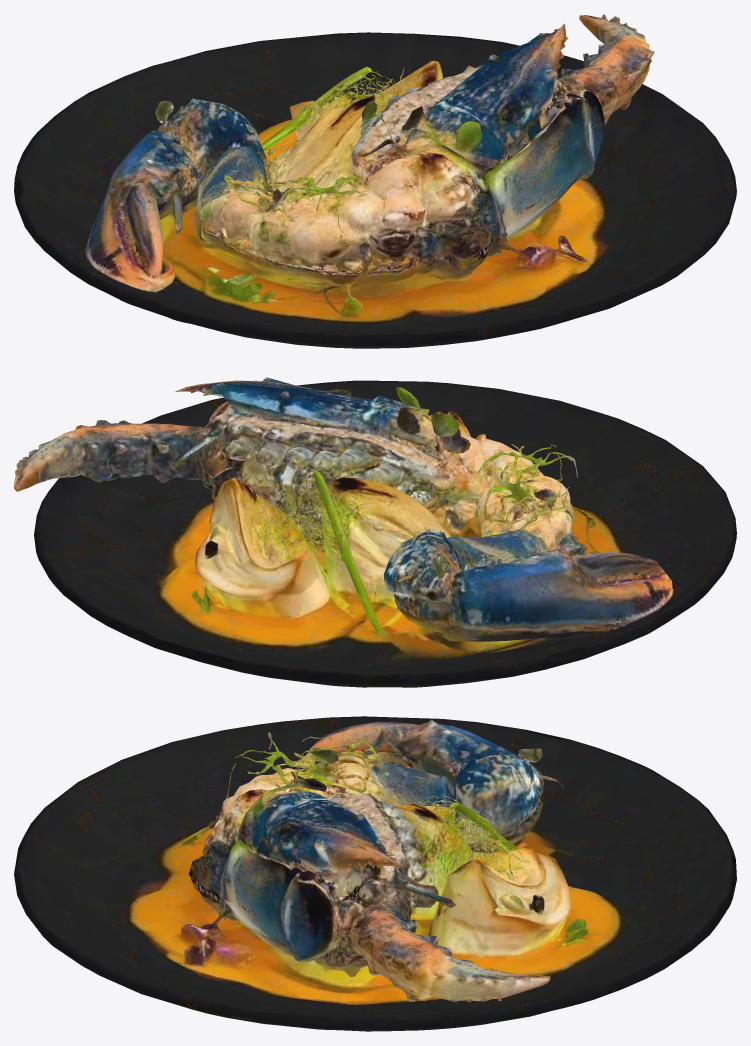
File: homard-mobile-q.glb
3 renders of one model, top to bottom at view 1: azimuth 30°, elevation 25°; view 2: azimuth 150°, elevation 25°; view 3: azimuth 270°, elevation 25°, orthographic. The views are drawn at different scales.
Parts seen in each view (by area): view 1: node0; view 2: node0; view 3: node0.
Boxes of the visible parts, x1,y1,x2,y2 form: node0: (14, 14, 736, 348); node0: (14, 377, 736, 687); node0: (14, 716, 736, 1031).
Bounding box in the file's own units: 0.2098 × 0.0552 × 0.2093.
1 material, 1 textured.
